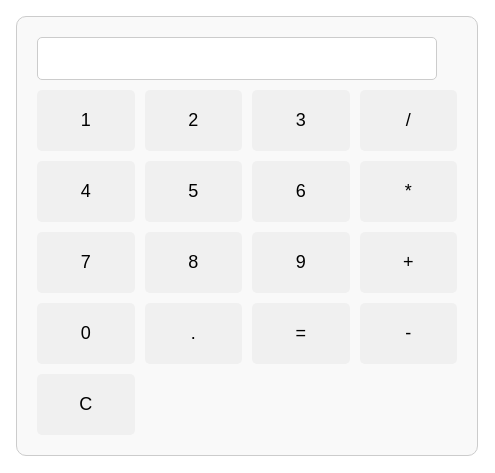
it: Calculadora › deve realizar operações de subtração corretamente
Step 1. Click the button "5" → (193, 192), box [144,161,242,222]
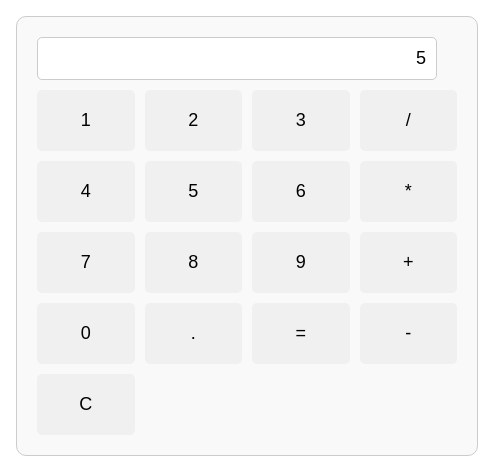
Step 2. Click the button "-" → (408, 334), box [360,303,457,364]
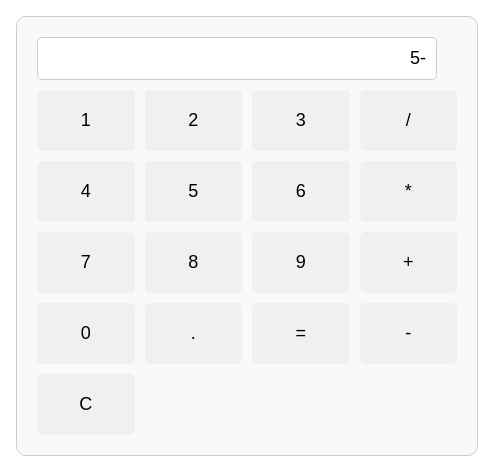
Step 3. Click the button "3" → (301, 120), box [252,90,350,151]
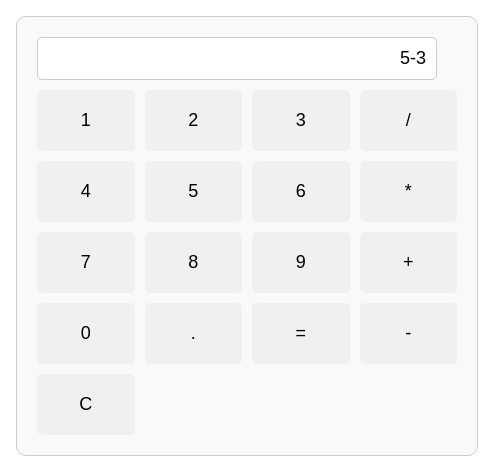
Step 4. Click the button "=" → (301, 334), box [252,303,350,364]
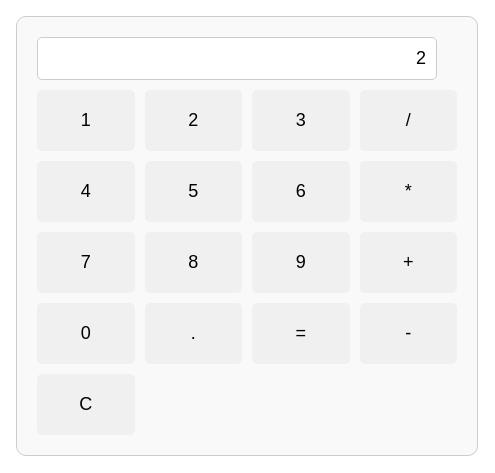
Check: the field holds "2", box [37,37,437,80]
